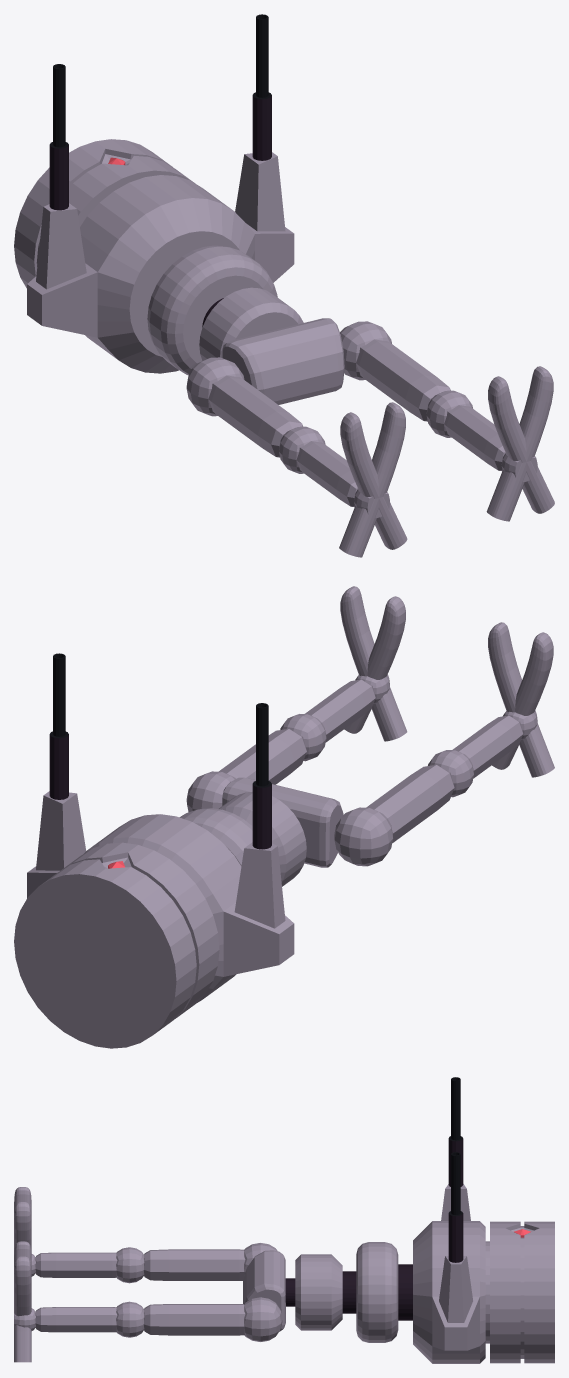
Rendered from cylinder-shooter-robot.fbx.
3 views of the same model, one above another, from view 1: azimuth 30°, elevation 25°; view 2: azimuth 150°, elevation 25°; view 3: azimuth 270°, elevation 25° (orthographic). The views are drawn at different scales.
Visible parts, largest first — view 1: spine.03, spine.02, pelvis, head, foot.R, foot.L, thigh.R, thigh.L, spine.01, shin.R, shin.L; view 2: head, spine.03, thigh.R, foot.L, foot.R, thigh.L, pelvis, shin.L, shin.R, spine.01, spine.02; view 3: spine.03, head, spine.02, thigh.L, spine.01, thigh.R, shin.L, shin.R, pelvis, foot.L, foot.R.
Boxes of the visible parts, x1,y1,x2,y2 form: spine.03: (27, 14, 294, 373); spine.02: (147, 245, 277, 375); pelvis: (222, 318, 344, 404); head: (14, 139, 194, 288); foot.R: (339, 402, 407, 557); foot.L: (486, 366, 554, 521); thigh.R: (186, 357, 302, 457); thigh.L: (340, 321, 450, 421); spine.01: (199, 287, 303, 360); shin.R: (279, 426, 357, 507); shin.L: (426, 390, 505, 470); head: (14, 842, 219, 1048); spine.03: (27, 653, 294, 1002); thigh.R: (334, 764, 454, 866); foot.L: (340, 586, 407, 741); foot.R: (488, 622, 554, 777); thigh.L: (186, 728, 306, 812); pelvis: (222, 777, 343, 867); shin.L: (280, 679, 375, 761); shin.R: (428, 715, 523, 797); spine.01: (219, 792, 306, 886); spine.02: (179, 808, 252, 865); spine.03: (413, 1077, 489, 1363); head: (490, 1221, 554, 1363); spine.02: (356, 1242, 412, 1342); thigh.L: (143, 1297, 282, 1341); spine.01: (295, 1254, 356, 1330); thigh.R: (144, 1243, 277, 1280); shin.L: (35, 1301, 144, 1337); shin.R: (35, 1247, 144, 1283); pelvis: (243, 1250, 295, 1331); foot.L: (14, 1241, 35, 1362); foot.R: (14, 1187, 35, 1276).
Size of the model in its own units: 86.36 by 104 by 212.
Materials: 1 (1 with a texture image).
